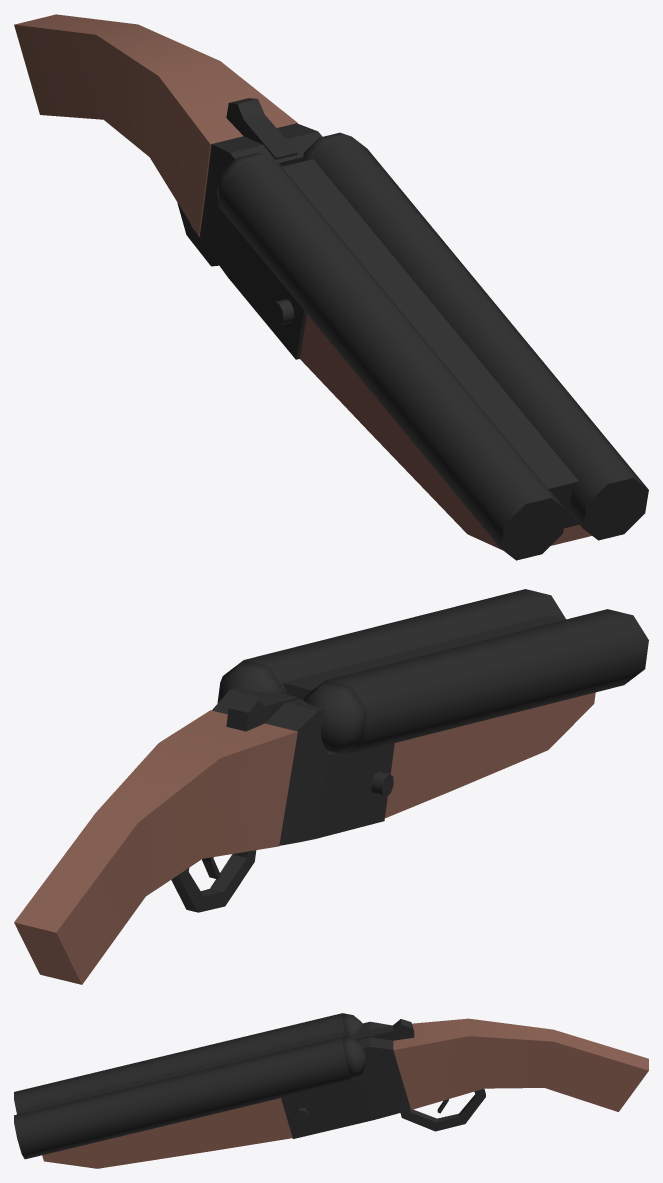
File: shotgun.glb
3 renders of one model, top to bottom at view 1: azimuth 30°, elevation 25°; view 2: azimuth 150°, elevation 25°; view 3: azimuth 270°, elevation 25°, orthographic. The views are drawn at different scales.
Visible parts, largest first — view 1: Sawed-Off_Shotgun_Body001_26, Sawed-Off_Shotgun_Body_28; view 2: Sawed-Off_Shotgun_Body_28, Sawed-Off_Shotgun_Body001_26; view 3: Sawed-Off_Shotgun_Body001_26, Sawed-Off_Shotgun_Body_28.
Part boxes in pixels (<box>): Sawed-Off_Shotgun_Body001_26: <box>219,136,648,560</box>; Sawed-Off_Shotgun_Body_28: <box>14,14,351,359</box>; Sawed-Off_Shotgun_Body_28: <box>14,660,394,984</box>; Sawed-Off_Shotgun_Body001_26: <box>244,589,648,818</box>; Sawed-Off_Shotgun_Body001_26: <box>14,1013,352,1168</box>; Sawed-Off_Shotgun_Body_28: <box>281,1013,648,1138</box>.
Size of the model in its own units: 0.1499 by 0.2305 by 0.9782.
